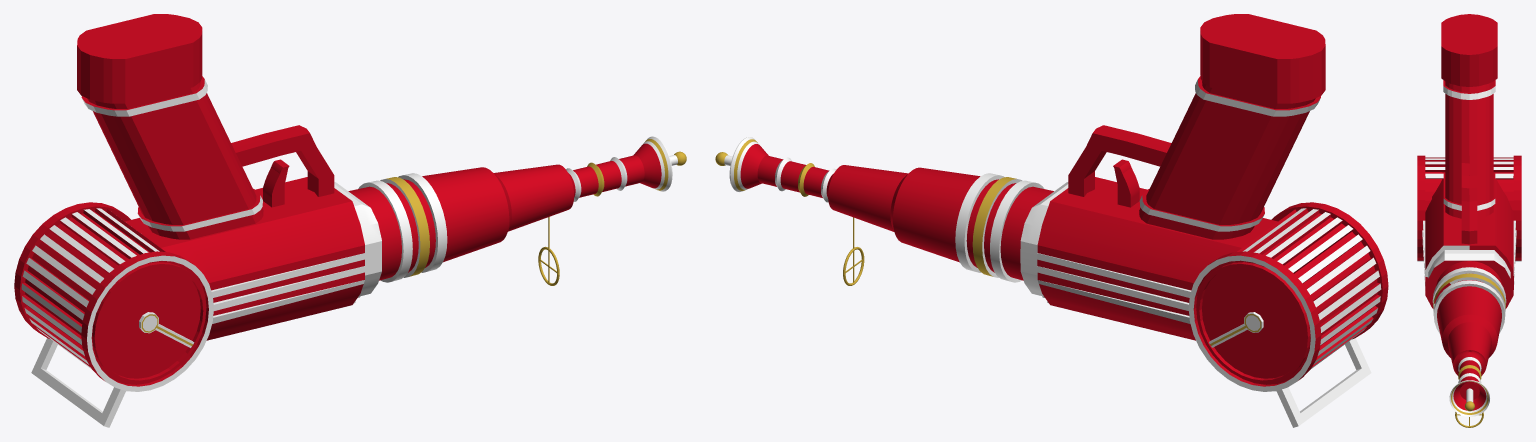
File: raygun.fbx
The picture shows the model from 3 angles, left to right: view 1: azimuth 30°, elevation 25°; view 2: azimuth 150°, elevation 25°; view 3: azimuth 270°, elevation 25°; orthographic projection. The views are drawn at different scales.
Parts seen in each view (by area): view 1: Cylinder, Cube, Cube.002, Cube.001, Cylinder.002; view 2: Cylinder, Cube, Cube.002, Cube.001, Cylinder.002; view 3: Cube, Cube.002, Cube.001, Cylinder, Cube.003.
Boxes of the visible parts, x1=… form: Cylinder: x1=14, y1=202, x2=364, y2=427; Cube: x1=77, y1=14, x2=334, y2=239; Cube.002: x1=348, y1=136, x2=672, y2=282; Cube.001: x1=124, y1=151, x2=686, y2=340; Cylinder.002: x1=139, y1=312, x2=194, y2=347; Cylinder: x1=1037, y1=202, x2=1388, y2=427; Cube: x1=1068, y1=14, x2=1325, y2=239; Cube.002: x1=729, y1=137, x2=1053, y2=282; Cube.001: x1=715, y1=152, x2=1277, y2=340; Cylinder.002: x1=1209, y1=312, x2=1263, y2=347; Cube: x1=1441, y1=14, x2=1497, y2=244; Cube.002: x1=1432, y1=261, x2=1506, y2=416; Cube.001: x1=1425, y1=178, x2=1513, y2=411; Cylinder: x1=1417, y1=155, x2=1521, y2=297; Cube.003: x1=1455, y1=412, x2=1483, y2=427.
Bounding box in the file's own units: 1877 × 983 × 373.
